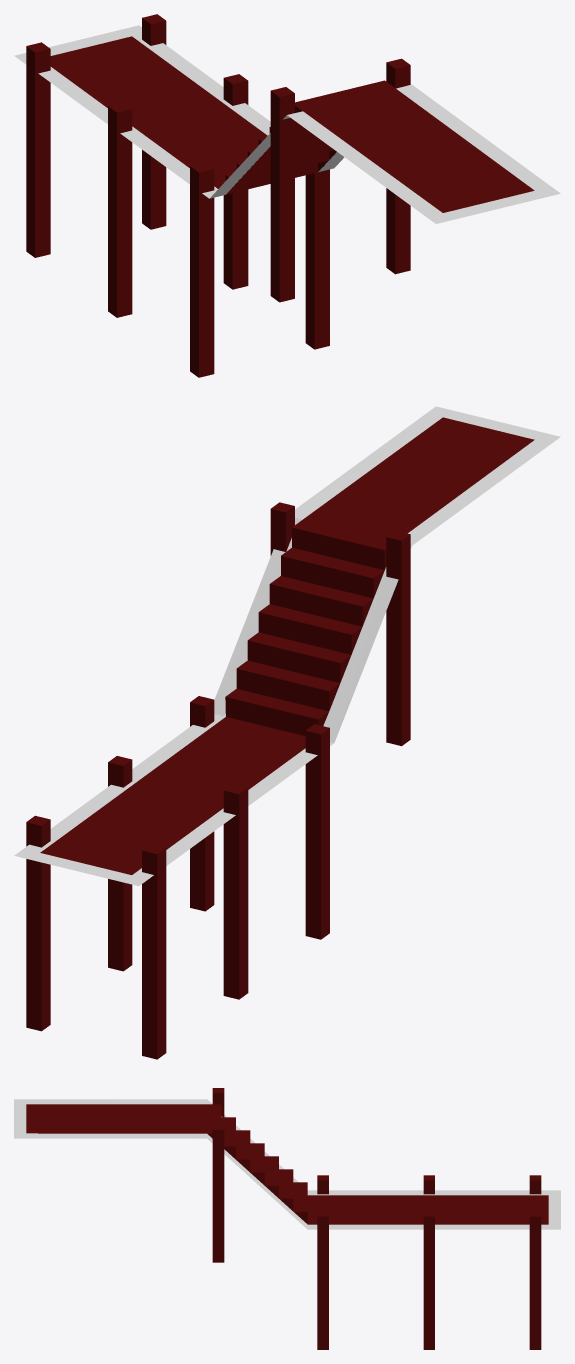
The model's file is FBX_PortOne.fbx.
3 renders of one model, top to bottom at view 1: azimuth 30°, elevation 25°; view 2: azimuth 150°, elevation 25°; view 3: azimuth 270°, elevation 25°, orthographic. The views are drawn at different scales.
Visible parts, largest first — view 1: PortOne; view 2: PortOne; view 3: PortOne.
Part boxes in pixels (box(x1,y1,x2,y2)): PortOne: box(14, 14, 560, 377); PortOne: box(14, 406, 560, 1059); PortOne: box(14, 1088, 560, 1349).
Size of the model in its own units: 127 by 314 by 708.
